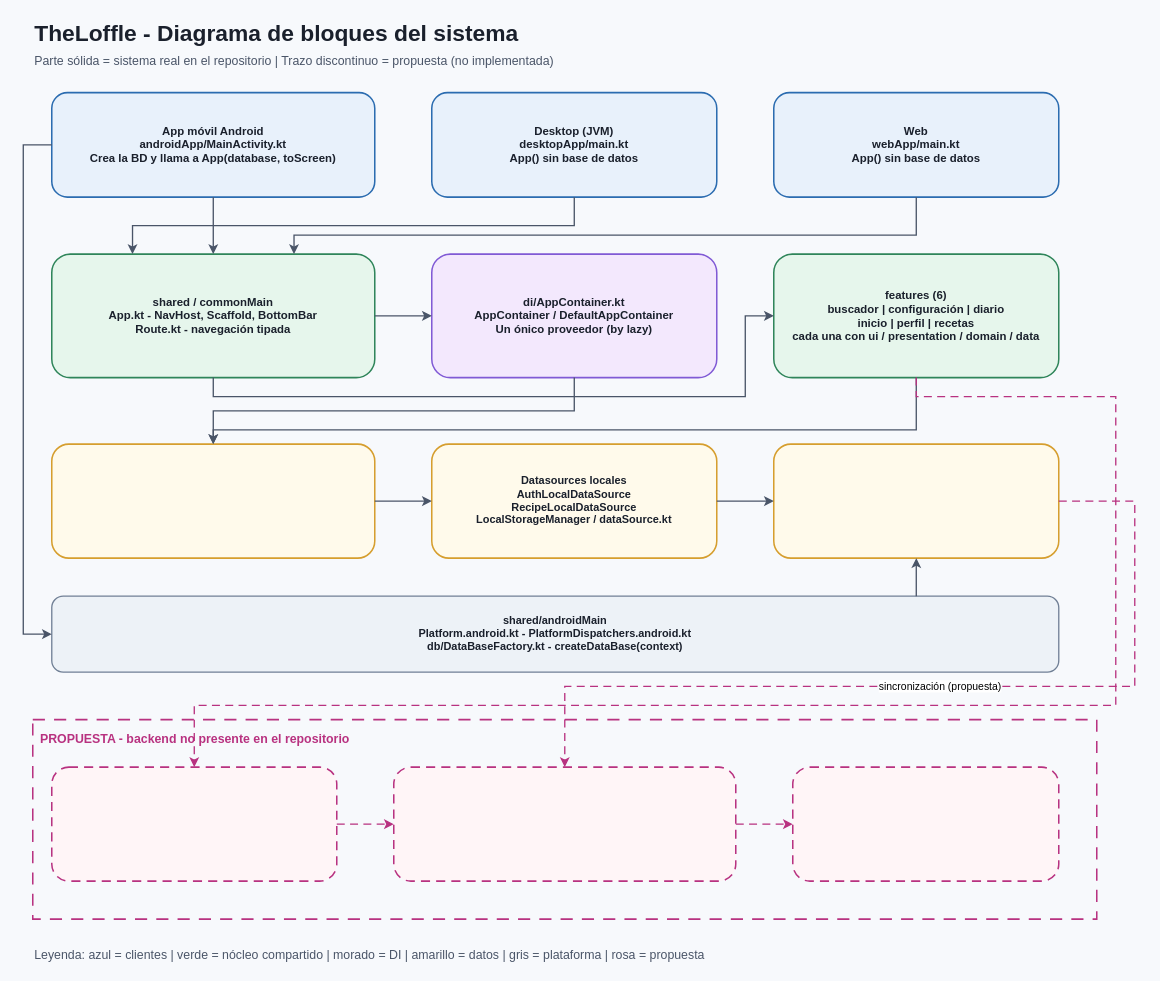
This 1160x981 diagram has some shape labels left out. The shapes that lost their labels are listed below. From the top down, each one's centre as x and y in pixels, then its label:
the point at 213,500: Repositorios domain/repository (interfaces) data/repository (*RepoImp)
the point at 916,500: TheLoffleDatabase (SQLDelight) AndroidSqliteDriver 'theloffle.db' - solo Android
the point at 194,823: core/network (propuesto) Cliente HTTP para peticiones
the point at 564,823: Backend / API REST (propuesto) Auth - Recetas - Bósqueda Perfil - Diario
the point at 925,823: Base de datos remota (propuesta) Persistencia compartida de los clientes
